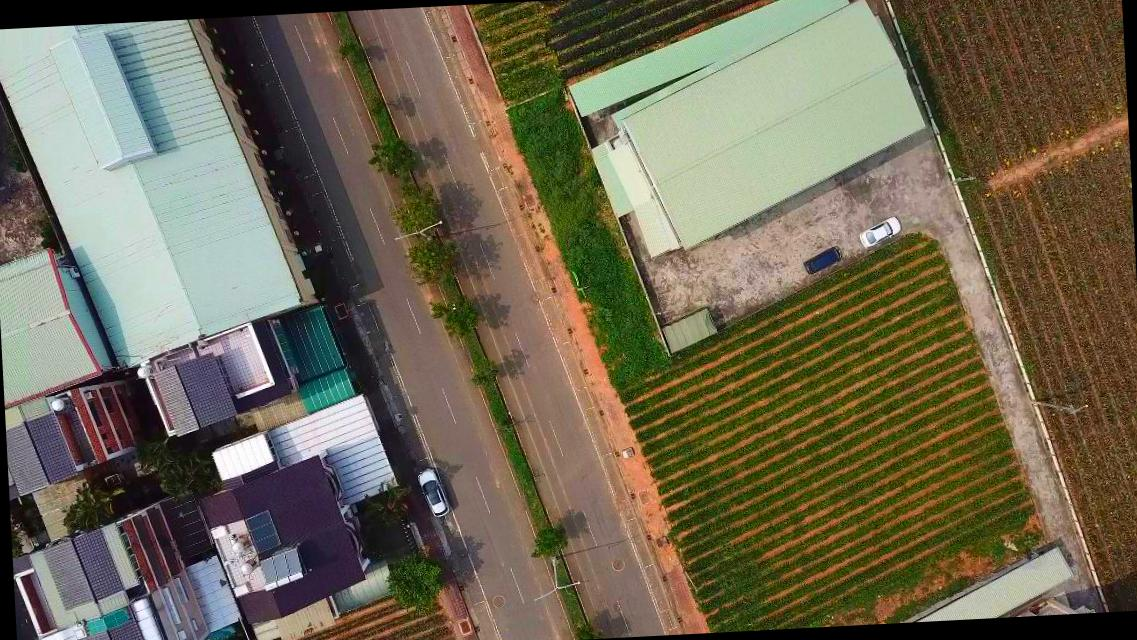vehicle: (414, 468, 449, 518), (854, 216, 902, 248), (802, 247, 844, 274)
